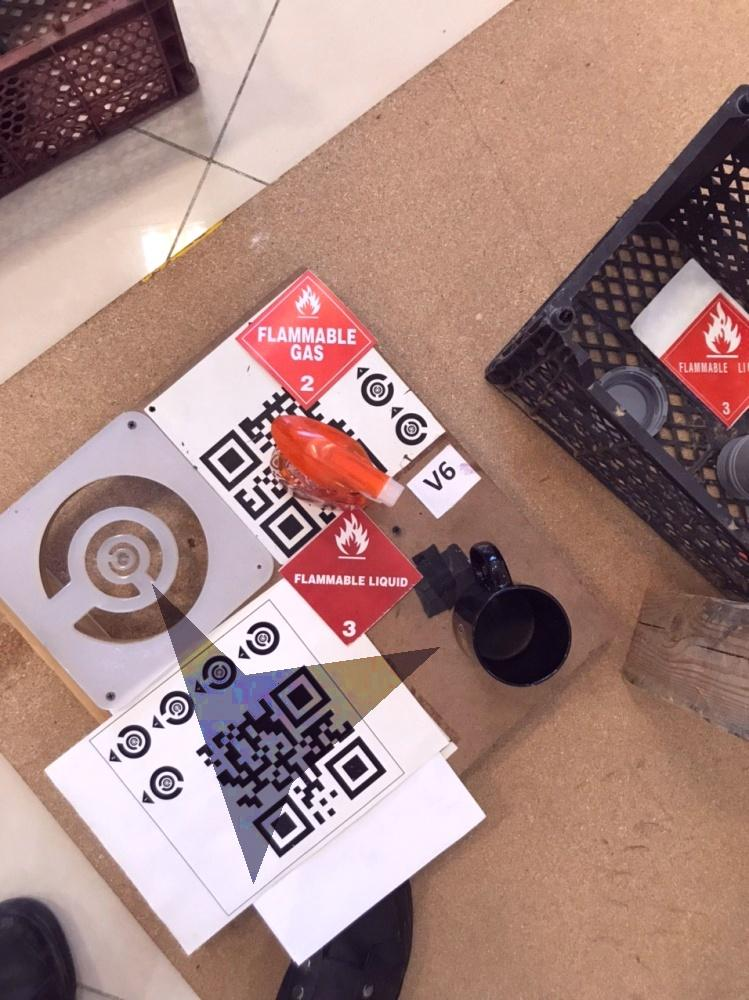flammable: (277, 511, 423, 649), (237, 272, 380, 408), (656, 291, 748, 424)
